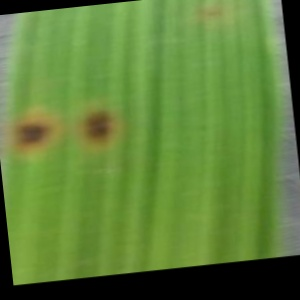Bacterial_Leaf_Blight: (5, 103, 61, 164), (73, 98, 129, 154), (195, 0, 230, 24)
